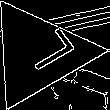L_SW: (6, 27, 72, 80)
